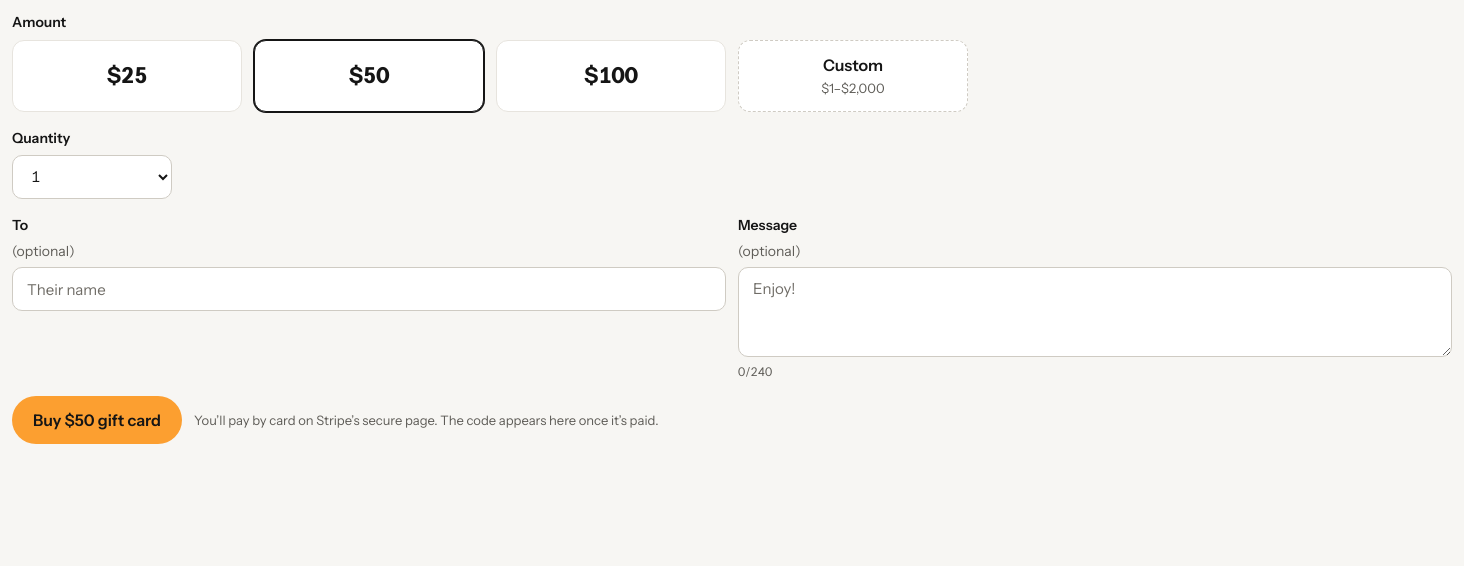
checks a custom amount as it’s typed
Click the radio button labelled "Custom $1–$2,000": (853, 76) [738, 40, 968, 112]
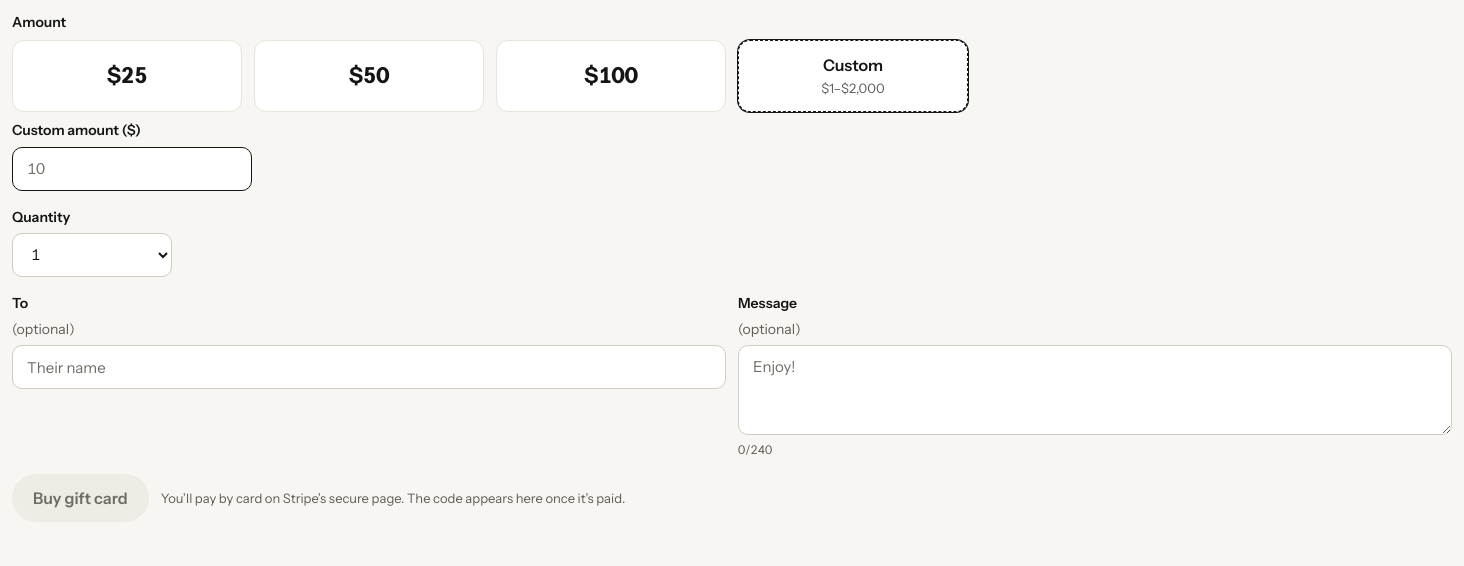
Expected: the button "Buy gift card" is disabled, [12, 474, 149, 522]
In the field labelled "Custom amount ($)": (132, 169) [12, 147, 252, 191], type "5000"
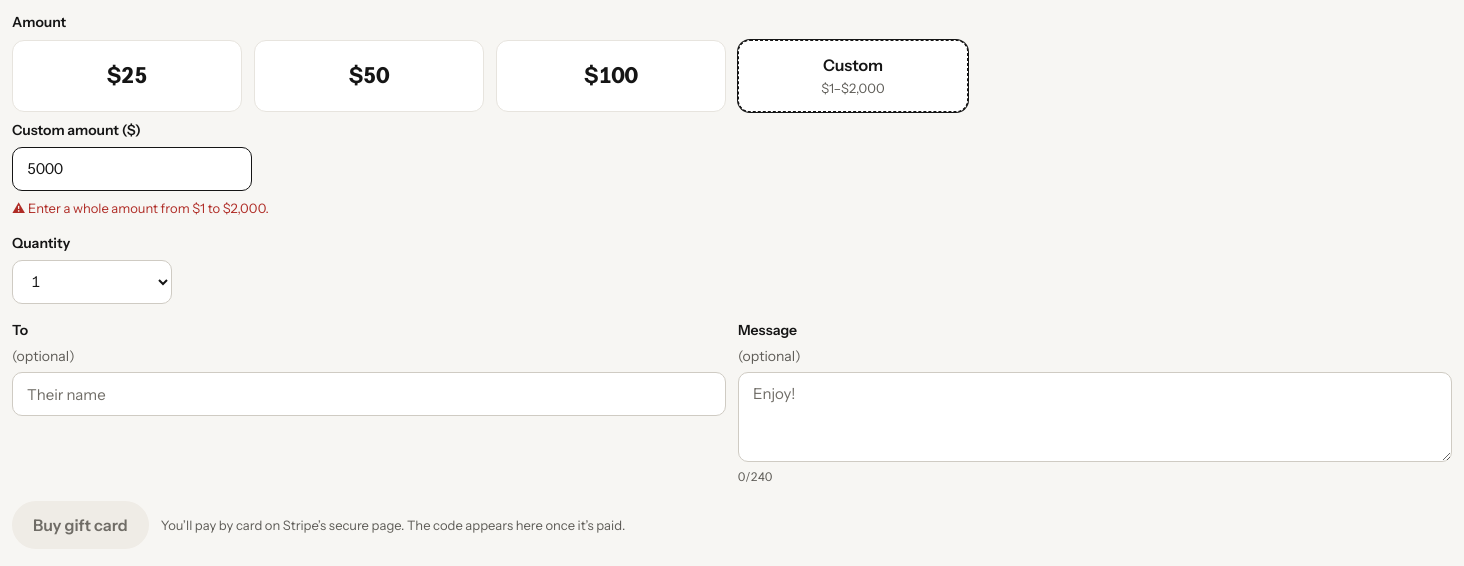
Expected: the message shows "Enter a whole amount from $1 to $2,000.", [28, 200, 269, 216]
Replace the text in the field labelled "Custom amount ($)" with "12.50": (132, 169) [12, 147, 252, 191]
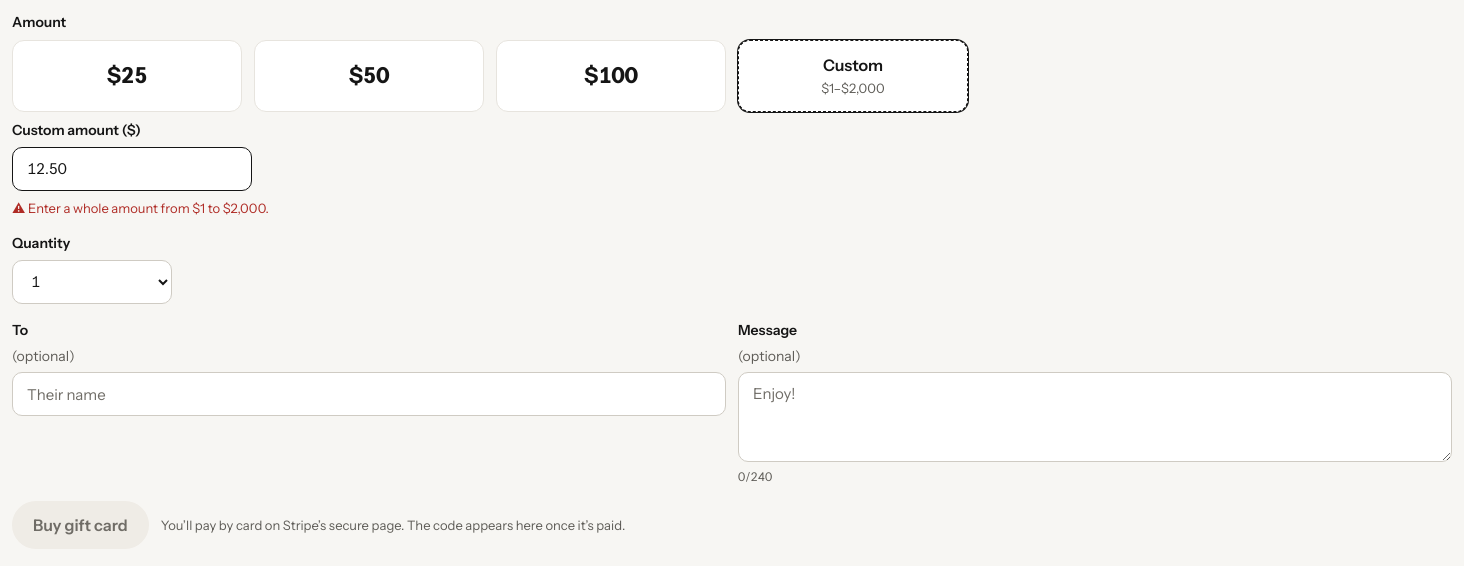
Expected: the button "Buy gift card" is disabled, [12, 501, 149, 549]
Replace the text in the field labelled "Custom amount ($)" with "$1,500": (132, 169) [12, 147, 252, 191]
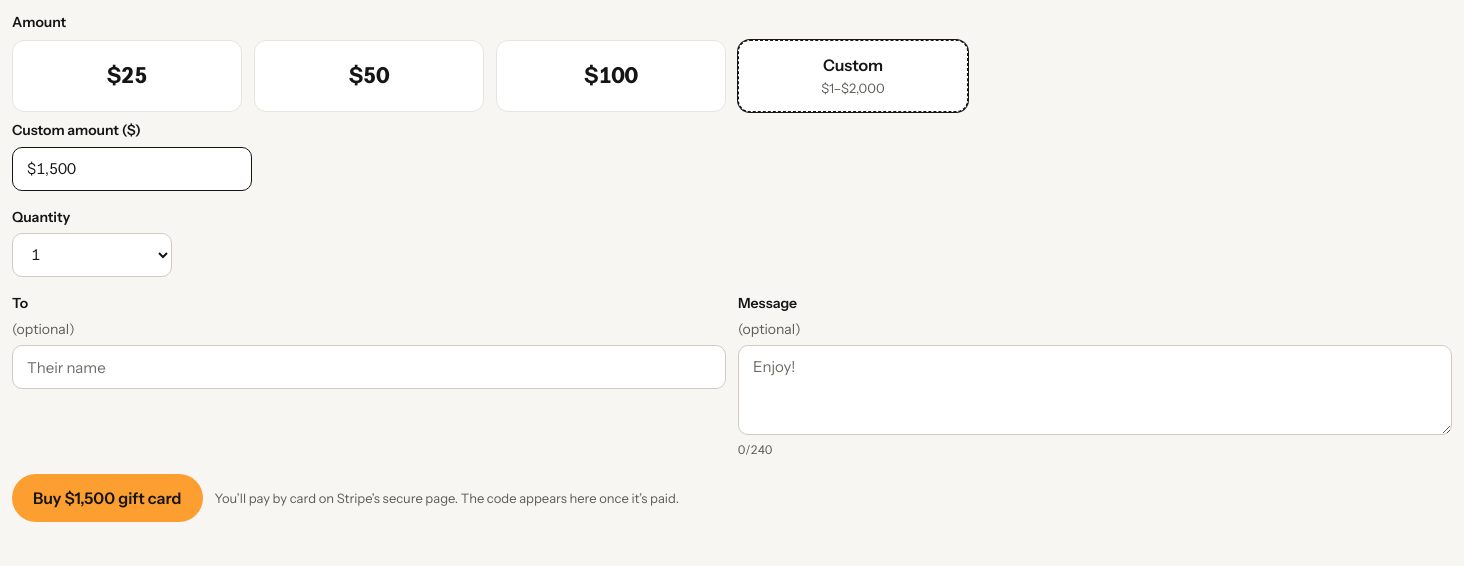
Expected: the message "⚠ Enter a whole amount from $1 to $2,000." is gone
Expected: the button "Buy $1,500 gift card" is enabled, [12, 474, 202, 522]
